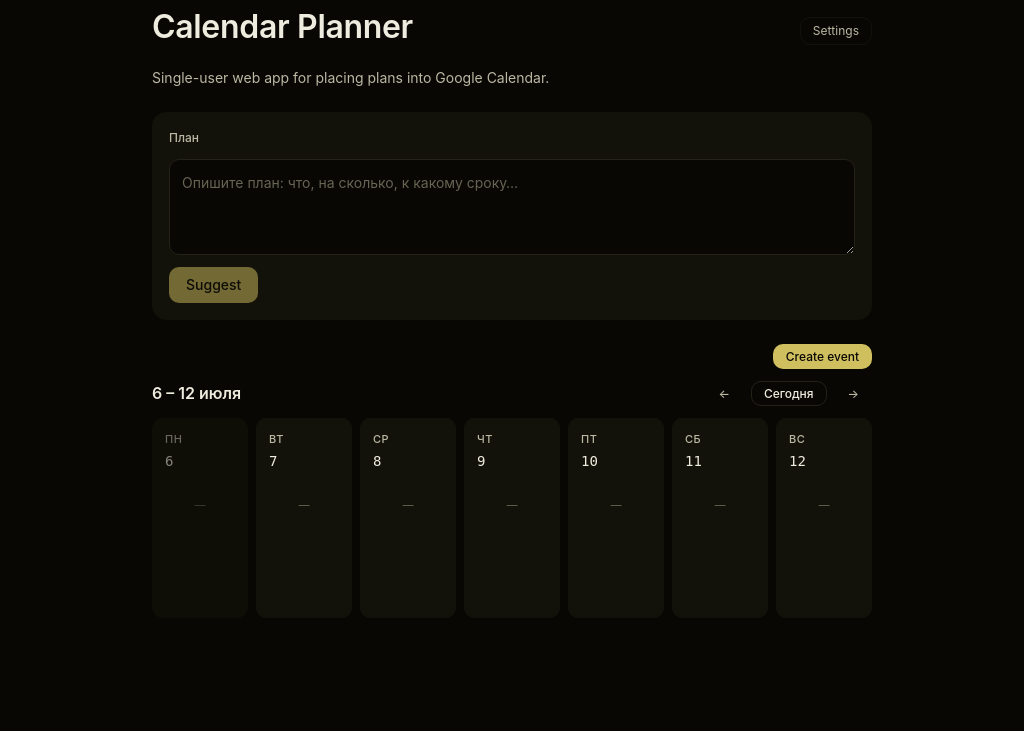
it: App bulk create flow › creates an event for each selected suggestion
Check: the element with test id "week-view" is shown, box [152,380,872,618]
In the text box labelled "План": [512, 207] box [169,159,855,255], type "bulk plan"
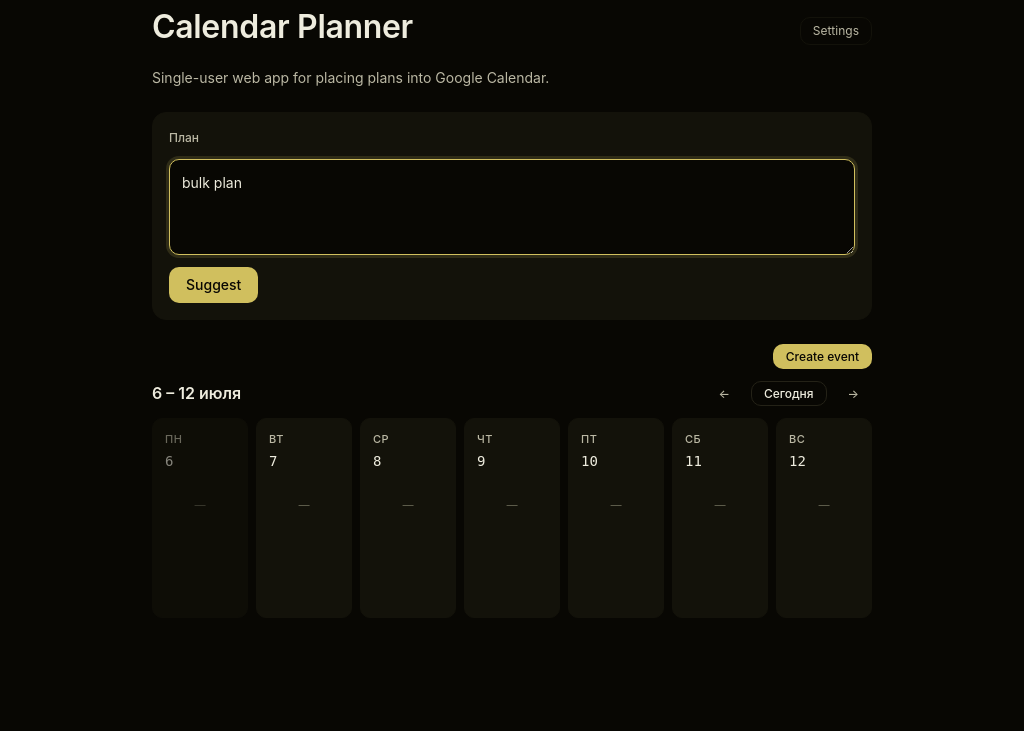
Click the button "Suggest": [214, 285] box [169,267,258,302]
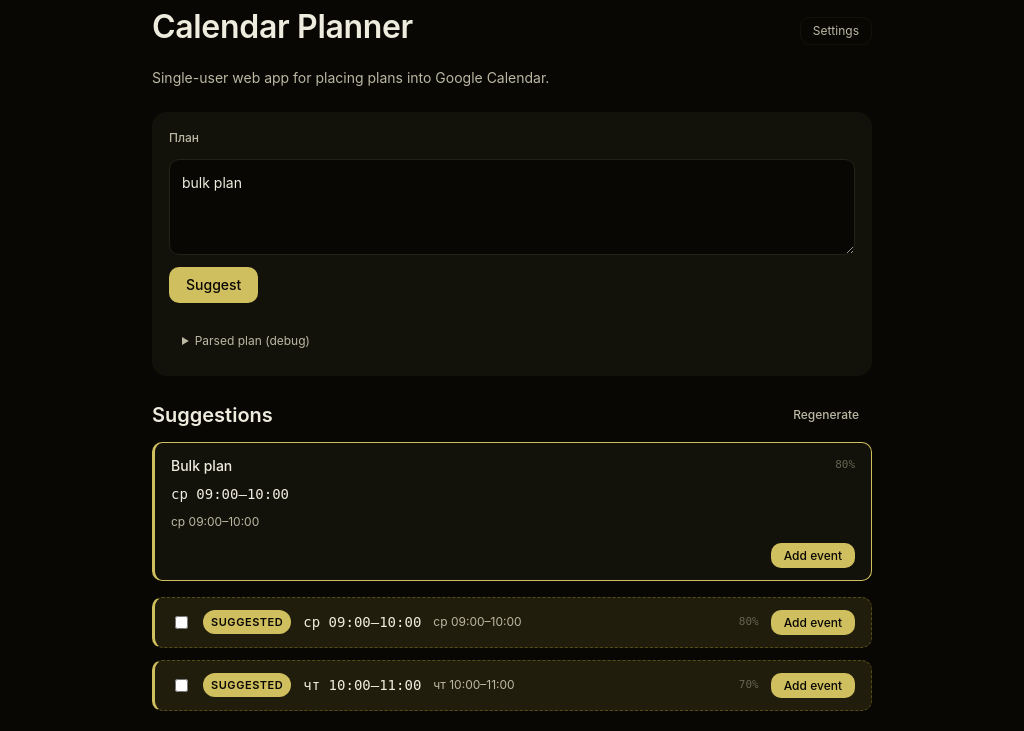
Check: the element with test id "suggestions-list" is shown, box [152,596,872,710]
Click the 1st checkbox with test id "suggestion-checkbox": [182, 622] box [175,616,188,628]
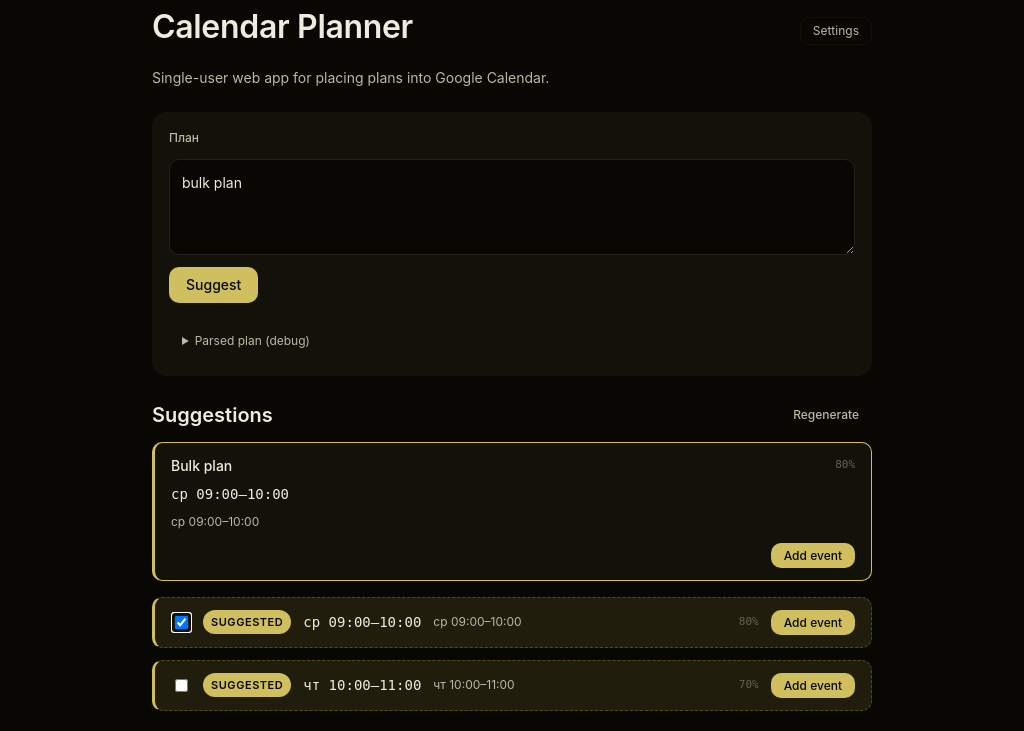
Click the 2nd checkbox with test id "suggestion-checkbox": [182, 685] box [175,678,188,692]
(page scrolled)
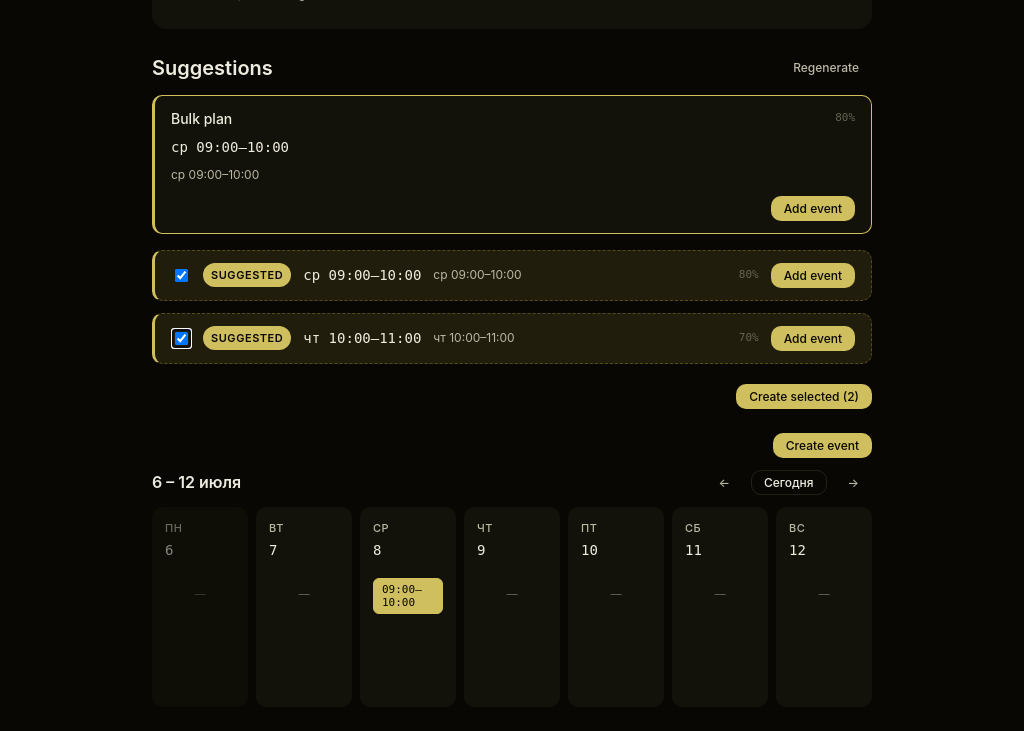
Click the button "Create selected (2)": [804, 396] box [736,384,872,408]
(page scrolled)
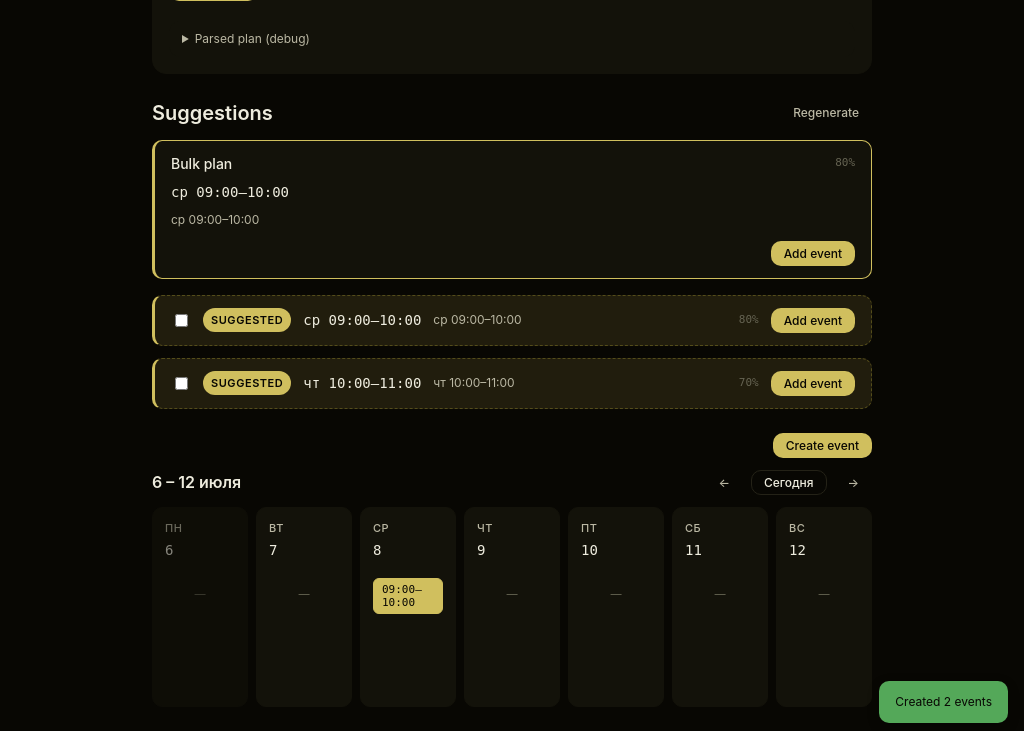
Check: the element with test id "create-toast" reads "Created 2 events", box [895,694,992,709]
